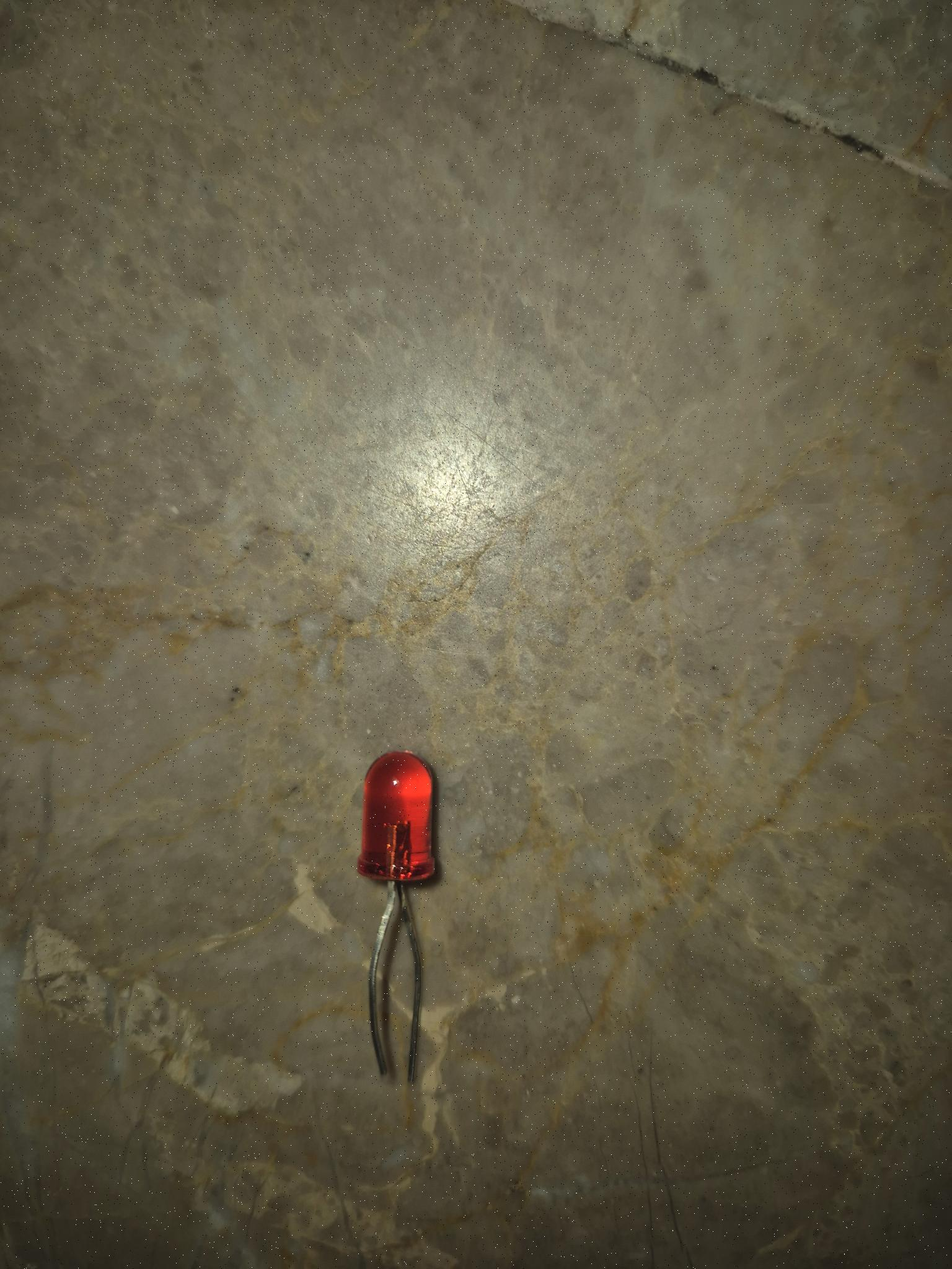led-diode: (358, 751, 437, 1083)
